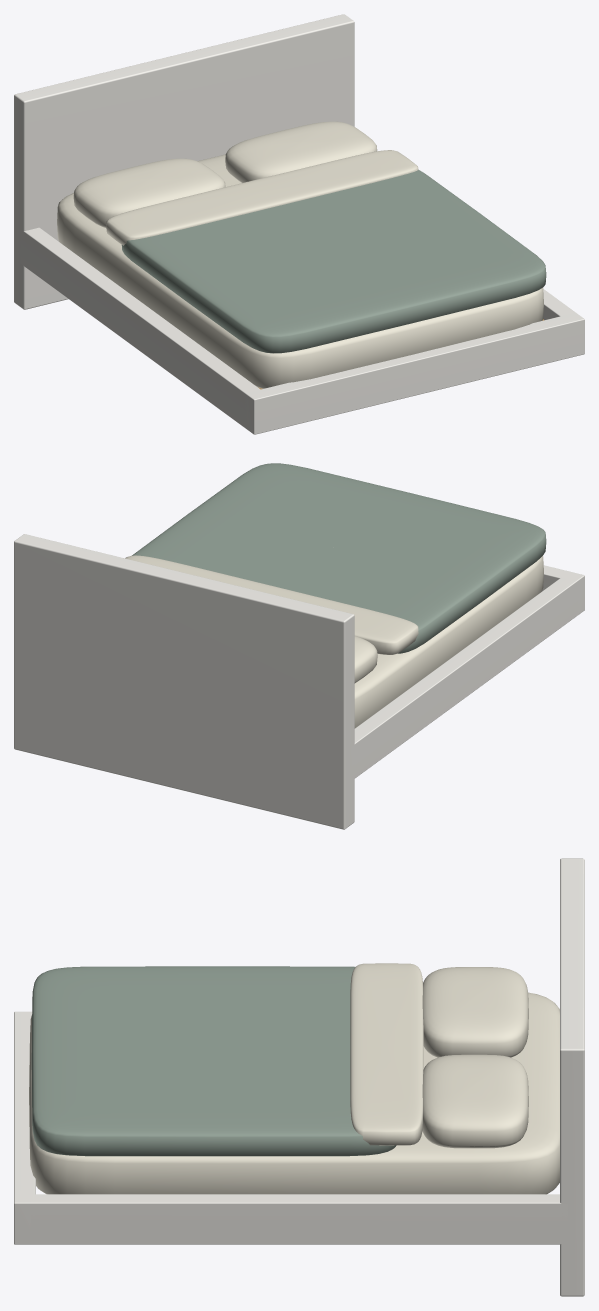
Rendered from bed.glb.
The picture shows the model from 3 angles, top to bottom: view 1: azimuth 30°, elevation 25°; view 2: azimuth 150°, elevation 25°; view 3: azimuth 270°, elevation 25°; orthographic projection. The views are drawn at different scales.
Visible parts, largest first — view 1: Sage_duvet, High_straight_headboard, Separate_staging_mattress, Low_straight_footboard, Wide_side_rail, Folded_duvet_turnback, Separate_staging_pillow, Separate_staging_pillow.001, Wide_side_rail.001; view 2: High_straight_headboard, Sage_duvet, Wide_side_rail, Separate_staging_mattress, Folded_duvet_turnback, Separate_staging_pillow, Low_straight_footboard; view 3: Sage_duvet, Separate_staging_mattress, Wide_side_rail.001, Folded_duvet_turnback, High_straight_headboard, Separate_staging_pillow.001, Separate_staging_pillow, Low_straight_footboard.
Part boxes in pixels (x1,y1,x2,y2): Sage_duvet: (121,169,546,353); High_straight_headboard: (14,14,354,309); Separate_staging_mattress: (57,154,543,388); Low_straight_footboard: (245,313,584,434); Wide_side_rail: (20,227,261,429); Folded_duvet_turnback: (106,150,418,245); Separate_staging_pillow: (73,158,225,227); Separate_staging_pillow.001: (225,121,377,182); Wide_side_rail.001: (543,289,575,320); High_straight_headboard: (14,534,354,829); Sage_duvet: (132,463,546,653); Wide_side_rail: (351,577,578,779); Separate_staging_mattress: (354,556,543,728); Folded_duvet_turnback: (125,555,418,654); Separate_staging_pillow: (354,636,377,683); Low_straight_footboard: (542,565,584,614); Sage_duvet: (31,966,396,1156); Separate_staging_mattress: (29,992,559,1194); Wide_side_rail.001: (30,1194,568,1244); Folded_duvet_turnback: (350,963,423,1145); High_straight_headboard: (560,858,584,1296); Separate_staging_pillow.001: (422,1054,528,1148); Separate_staging_pillow: (422,967,528,1057); Low_straight_footboard: (14,1011,35,1244).
Bounding box in the file's own units: 1.66 × 1 × 2.09.
Materials: 5 (1 with a texture image).
